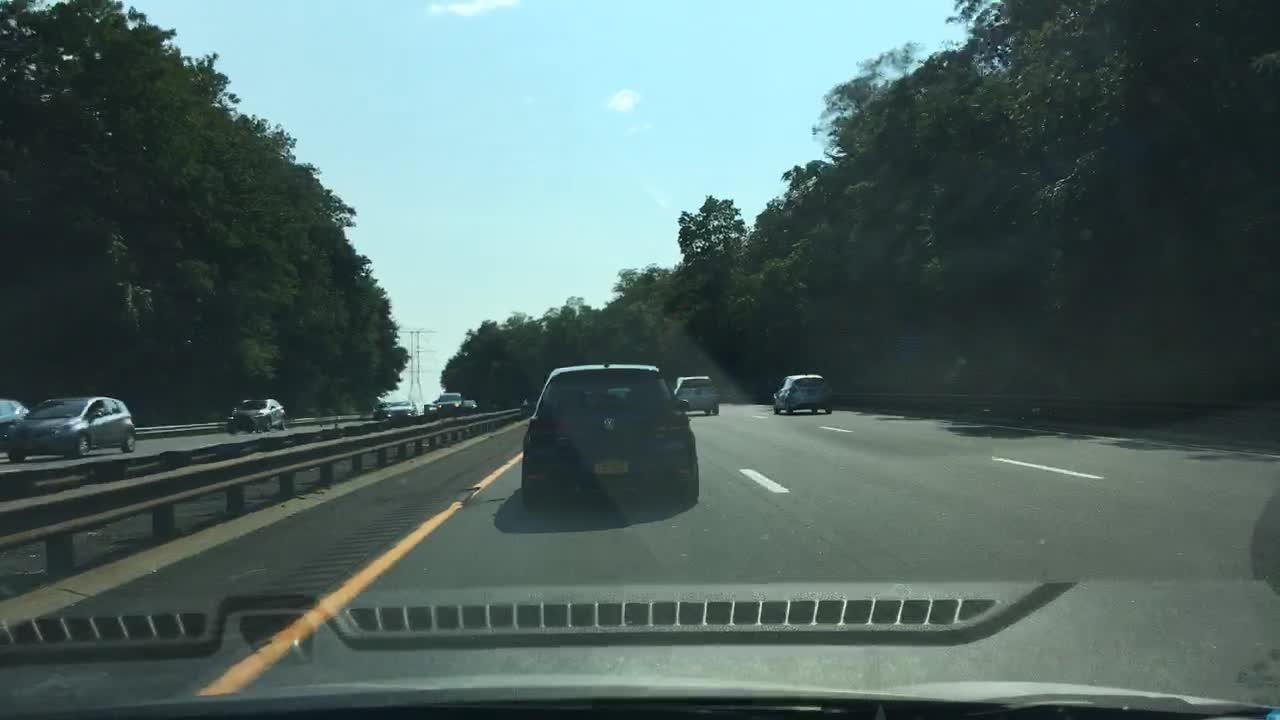Volkswagen: (599, 413, 620, 436)
